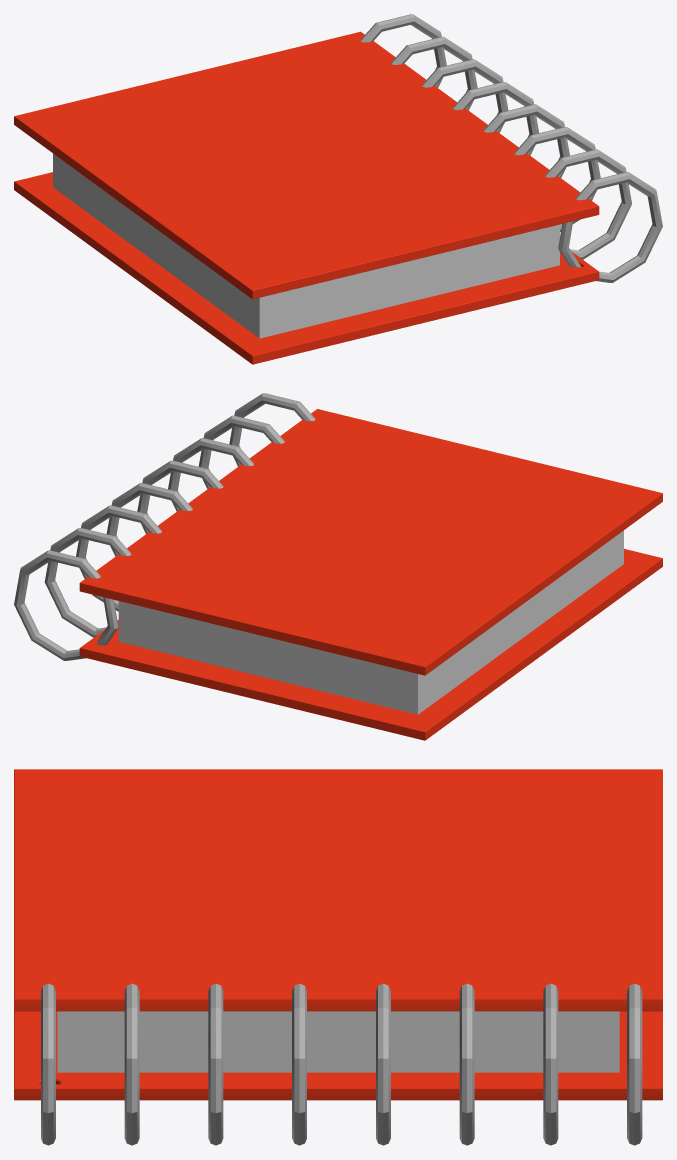
The model's file is PRINCIPALOFFICEnotebook.fbx.
3 views of the same model, one above another, from view 1: azimuth 30°, elevation 25°; view 2: azimuth 150°, elevation 25°; view 3: azimuth 270°, elevation 25° (orthographic). The views are drawn at different scales.
Parts seen in each view (by area): view 1: PRINCIPALOFFICEnotebook; view 2: PRINCIPALOFFICEnotebook; view 3: PRINCIPALOFFICEnotebook.
Boxes of the visible parts, x1,y1,x2,y2 form: PRINCIPALOFFICEnotebook: (14,14,662,364); PRINCIPALOFFICEnotebook: (14,393,662,740); PRINCIPALOFFICEnotebook: (14,769,662,1145).
Size of the model in its own units: 30.34 by 7.33 by 29.66.
Materials: 2 (2 with a texture image).
